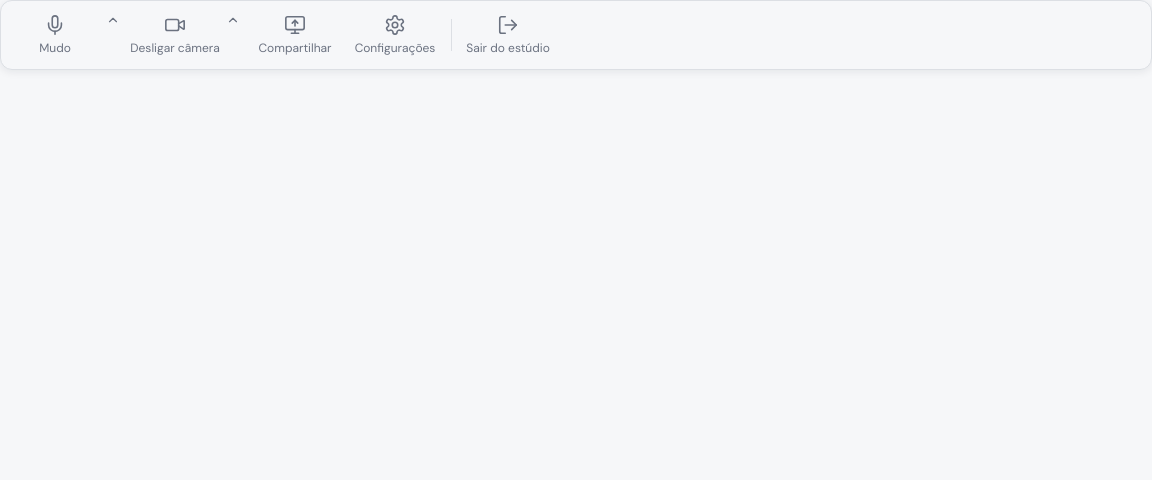
Test: setinha do microfone › sem permissão: 'Permitir acesso para ver os aparelhos' pede o microfone e relê a lista
Step 1. Press the mouse on the button named "Opções de áudio" → [113, 35], box [103,5,123,65]
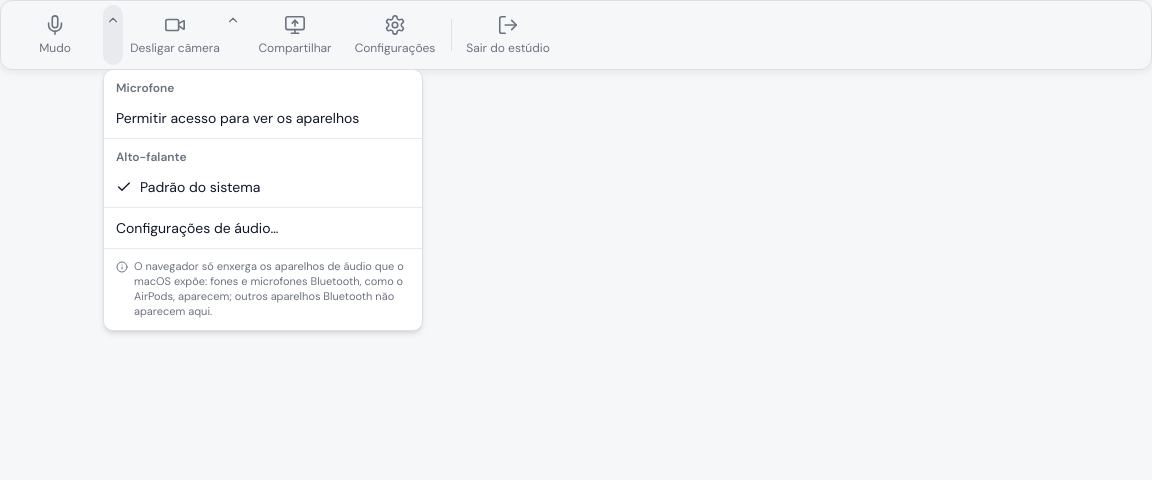
Step 2. Click the menu item "Permitir acesso para ver os aparelhos" → [238, 118], box [116,109,359,127]
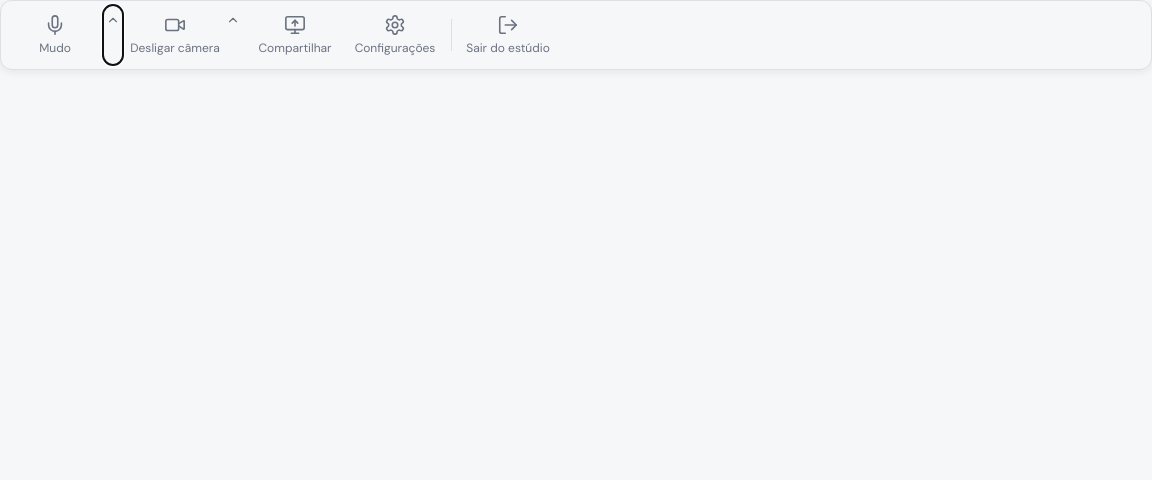
Step 3. Press the mouse on the button named "Opções de áudio" → [113, 35], box [103,5,123,65]
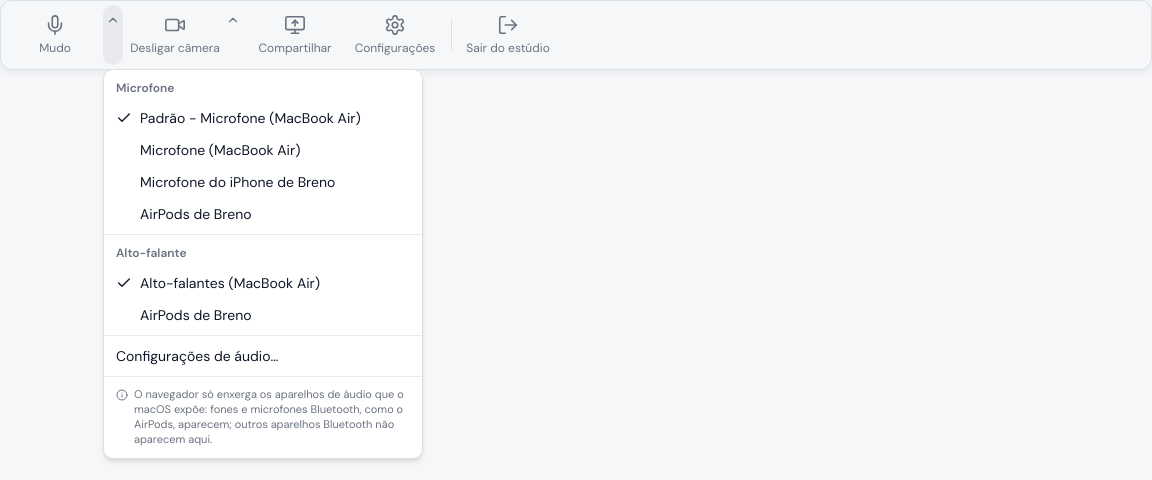
Expected: the menu item does not show "Permitir acesso para ver os aparelhos"
Expected: the menu shows "AirPods de Breno", [140,205,252,223]
